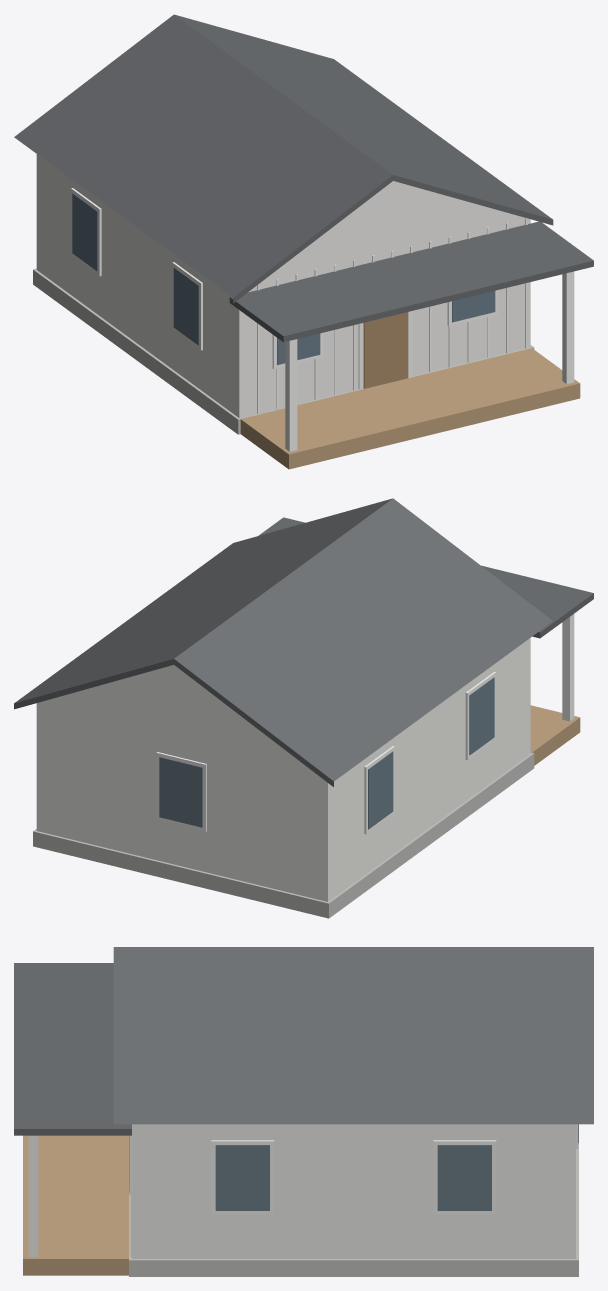
The model's file is one-bed-farmhouse.glb.
3 renders of one model, top to bottom at view 1: azimuth 30°, elevation 25°; view 2: azimuth 150°, elevation 25°; view 3: azimuth 270°, elevation 25°, orthographic. The views are drawn at different scales.
Visible parts, largest first — view 1: The Ripon (farmhouse); view 2: The Ripon (farmhouse); view 3: The Ripon (farmhouse).
Boxes of the visible parts, bbox=[...] form: The Ripon (farmhouse): bbox=[14, 14, 593, 469]; The Ripon (farmhouse): bbox=[14, 498, 593, 918]; The Ripon (farmhouse): bbox=[14, 947, 593, 1276].
Size of the model in its own units: 6.7 by 4.57 by 9.59.
